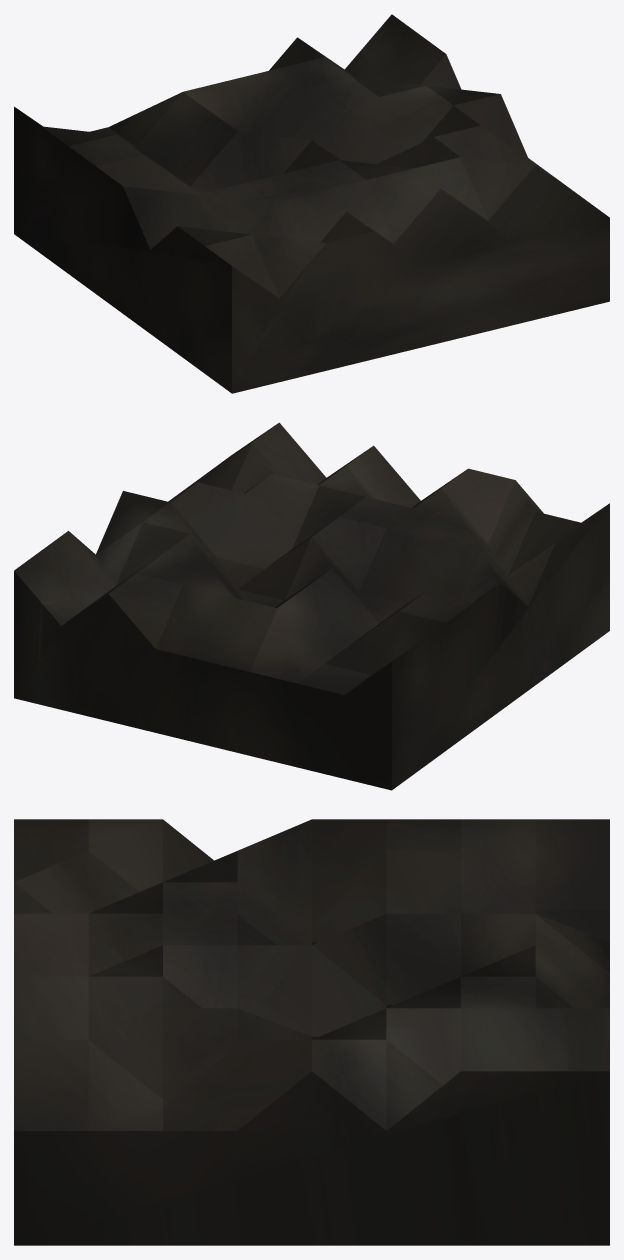
File: TilePrepad.fbx
3 views of the same model, one above another, from view 1: azimuth 30°, elevation 25°; view 2: azimuth 150°, elevation 25°; view 3: azimuth 270°, elevation 25° (orthographic). The views are drawn at different scales.
Visible parts, largest first — view 1: Cube; view 2: Cube; view 3: Cube.
Boxes of the visible parts, box(x1,y1,x2,y2) form: Cube: box(14, 14, 609, 393); Cube: box(14, 422, 609, 790); Cube: box(14, 819, 609, 1245).
Size of the model in its own units: 200 by 64.6 by 200.
